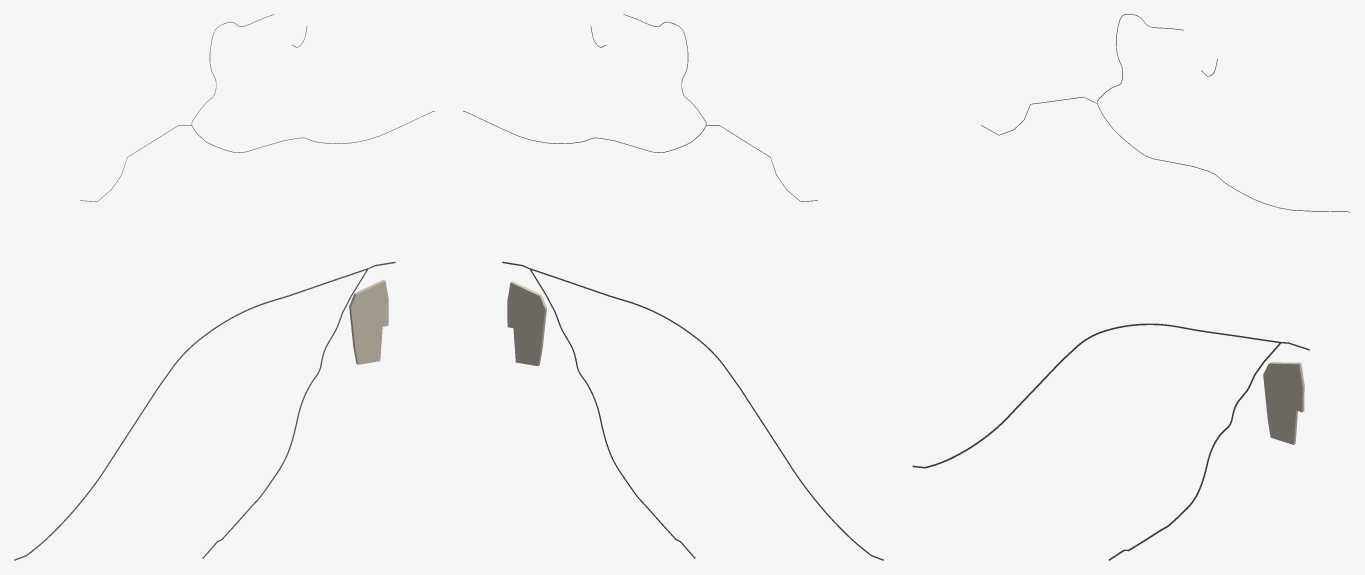
File: historic-palestine-11_28_3532_3222.glb
3 renders of one model, left to right at view 1: azimuth 30°, elevation 25°; view 2: azimuth 150°, elevation 25°; view 3: azimuth 330°, elevation 25°, orthographic. The views are drawn at different scales.
Parts seen in each view (by area): view 1: Building_, Road, Road .005; view 2: Building_, Road, Road .005; view 3: Building_, Road, Road .005.
Boxes of the visible parts, <box> form: Building_: <box>349,279,388,364</box>; Road: <box>14,268,367,560</box>; Road .005: <box>202,261,395,558</box>; Building_: <box>507,281,546,366</box>; Road: <box>530,268,883,560</box>; Road .005: <box>502,261,695,558</box>; Building_: <box>1263,362,1304,444</box>; Road: <box>912,323,1280,468</box>; Road .005: <box>1108,342,1309,560</box>.
Size of the model in its own units: 965 by 1164 by 8.7.
